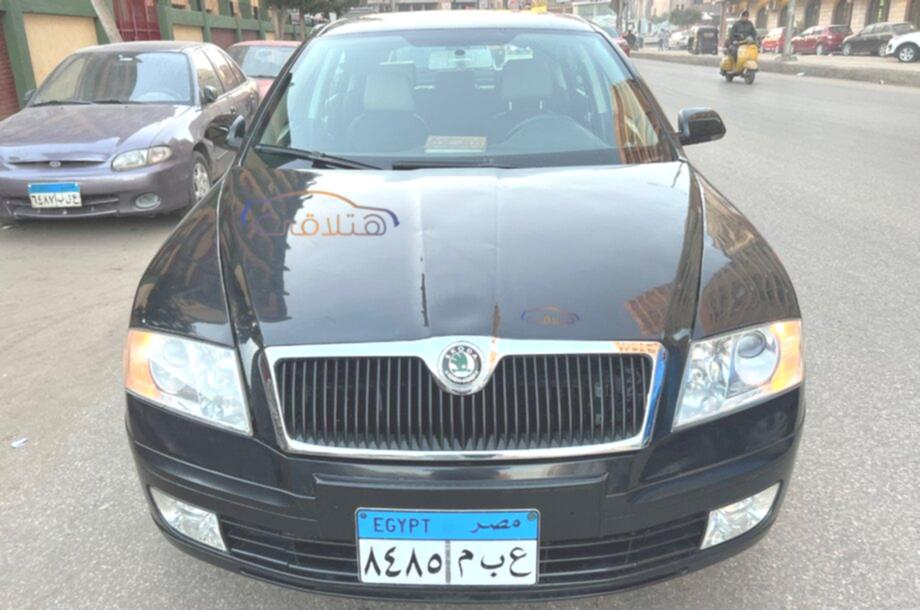skoda: (434, 328, 489, 400)
